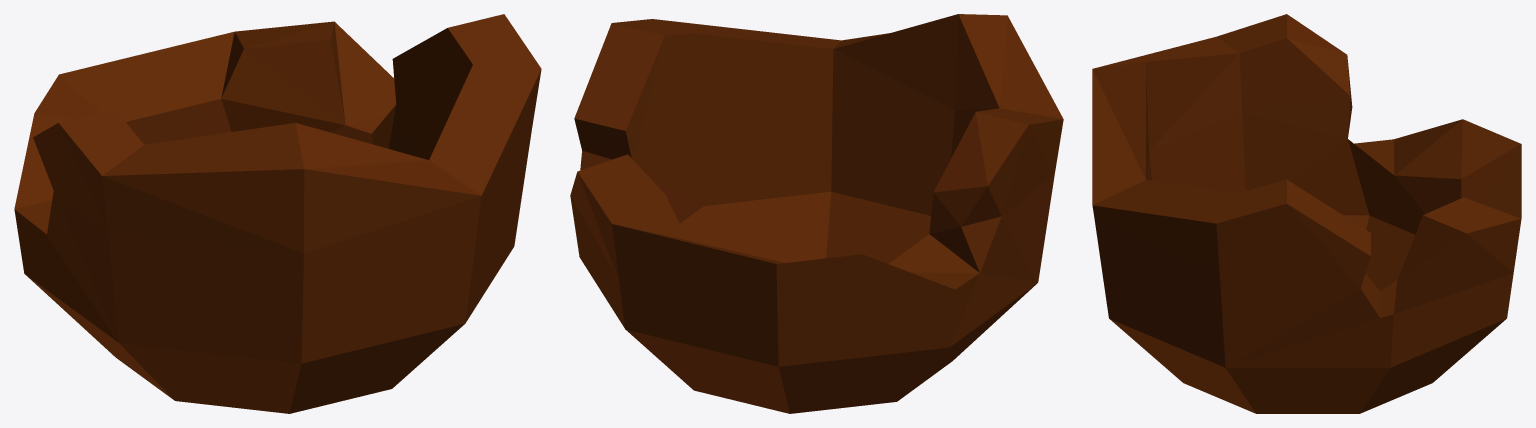
Rendered from SM_SM_Pottery_04.fbx.
3 renders of one model, left to right at view 1: azimuth 30°, elevation 25°; view 2: azimuth 150°, elevation 25°; view 3: azimuth 270°, elevation 25°, orthographic. The views are drawn at different scales.
Visible parts, largest first — view 1: SM_Pottery_04; view 2: SM_Pottery_04; view 3: SM_Pottery_04.
Part boxes in pixels (left/top/right/bottom): SM_Pottery_04: left=14, top=14, right=541, bottom=413; SM_Pottery_04: left=570, top=14, right=1063, bottom=413; SM_Pottery_04: left=1092, top=14, right=1521, bottom=413.
Size of the model in its own units: 49.77 by 33.15 by 47.59.
